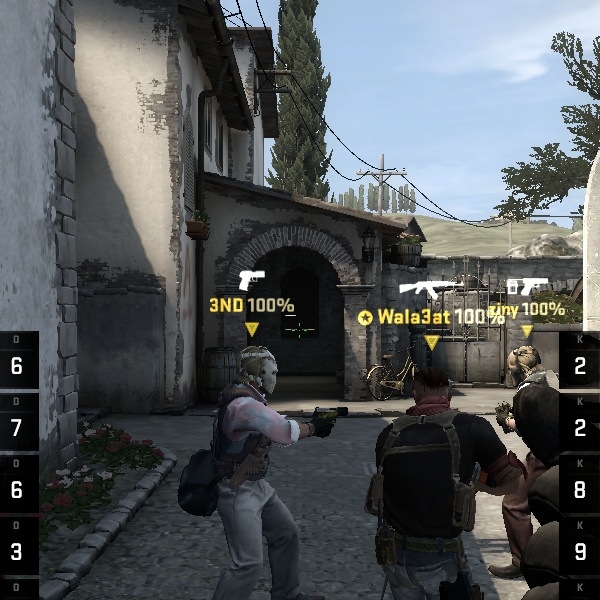t_body: (440, 333, 583, 590)
t_head: (495, 340, 552, 394)
